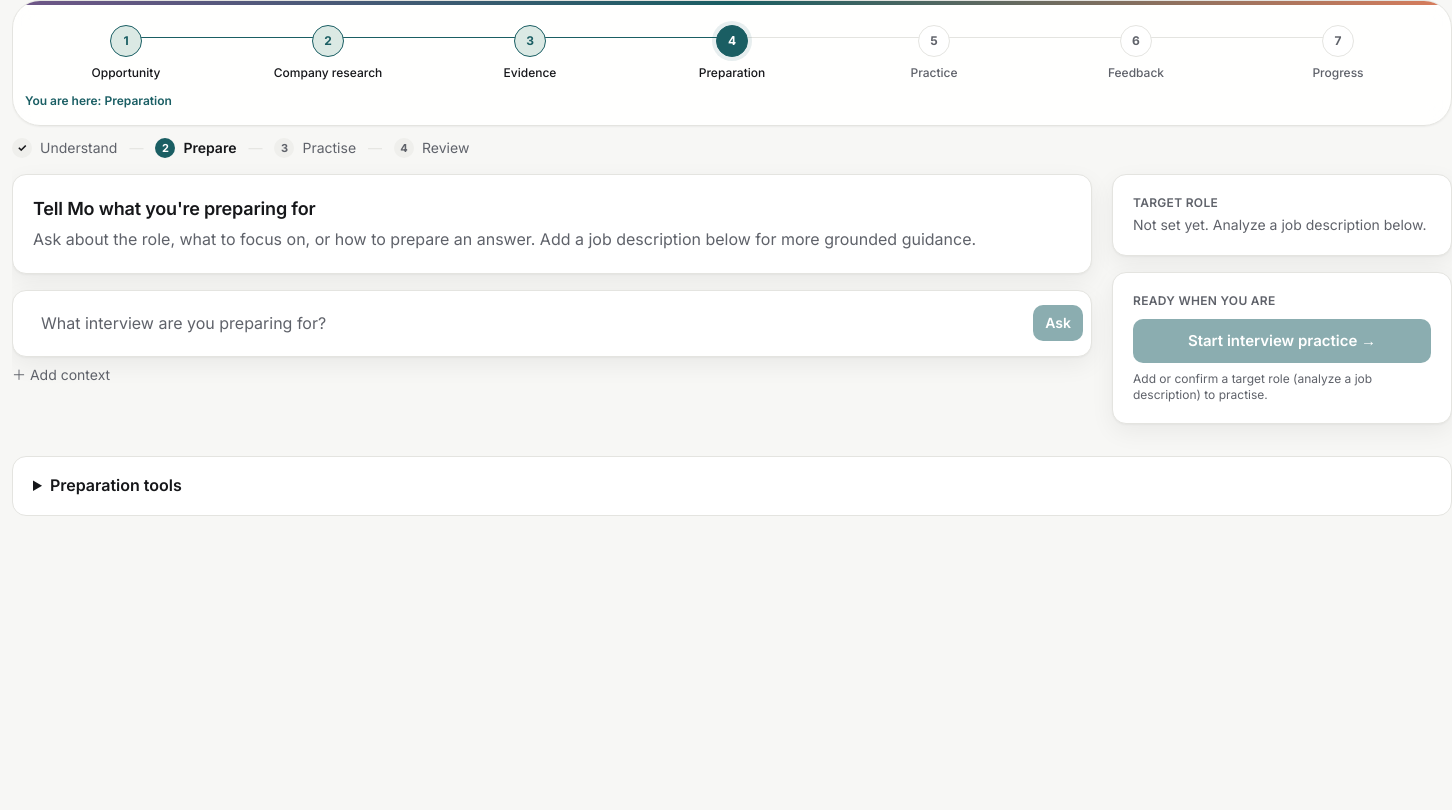
Prepare workspace › renders the insufficient-evidence state without fabricating an answer
Type "obscure question" into the field named "Ask the coach" at point(526, 323), box [27,299,1025,348]
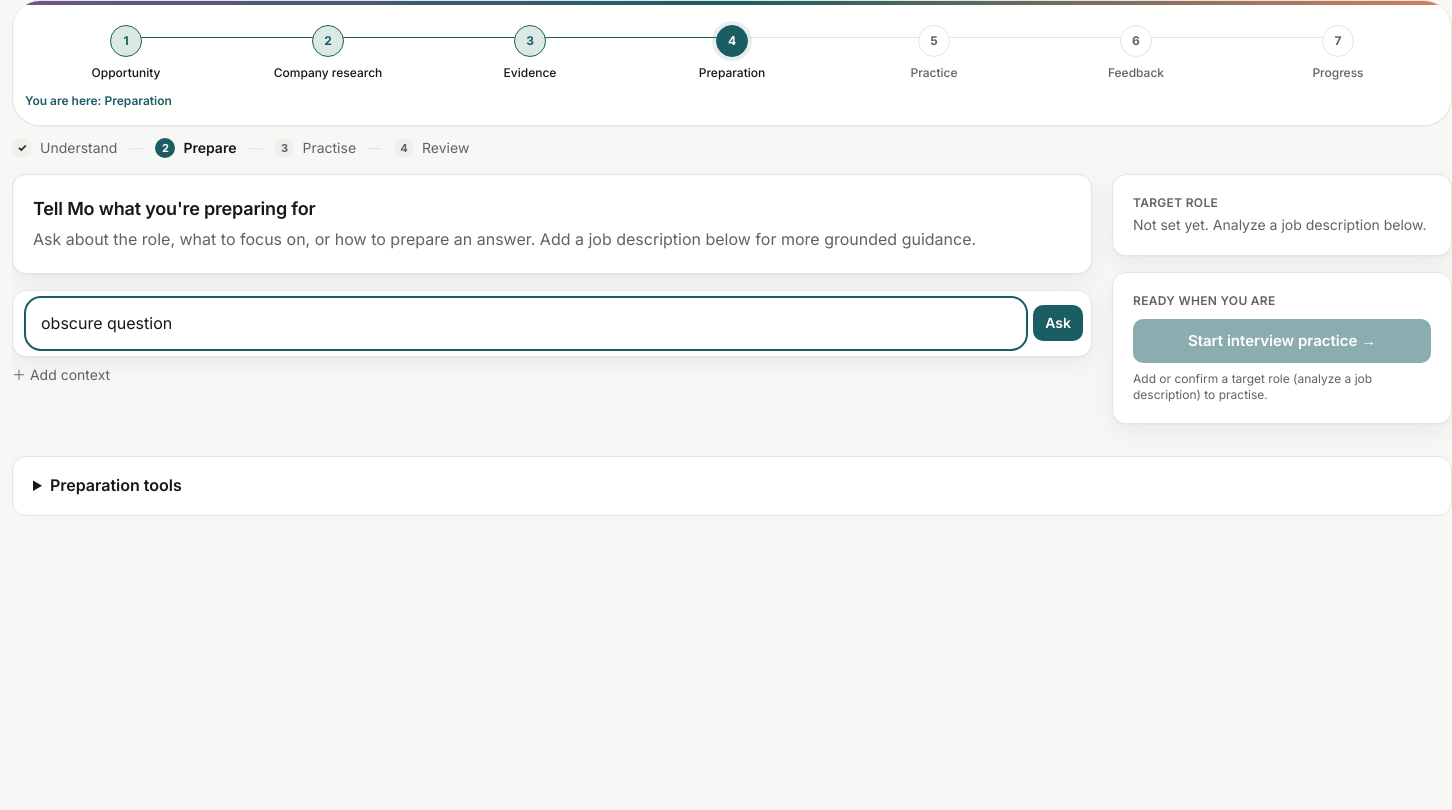
Click the button "Ask" at point(1058, 323), box [1033,305,1083,341]
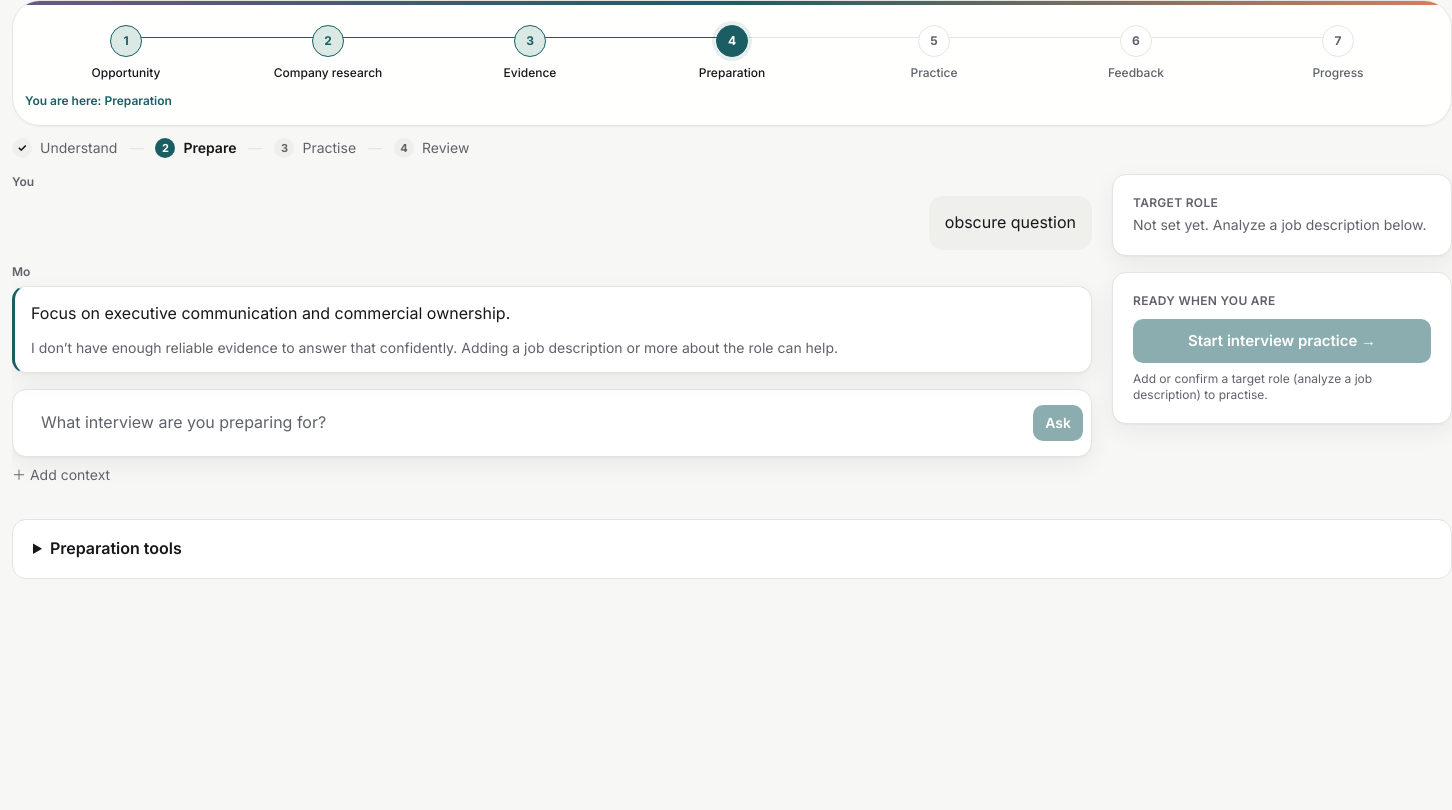
Check: the text "don’t have enough reliable evidence" is shown, box [31,339,838,356]
